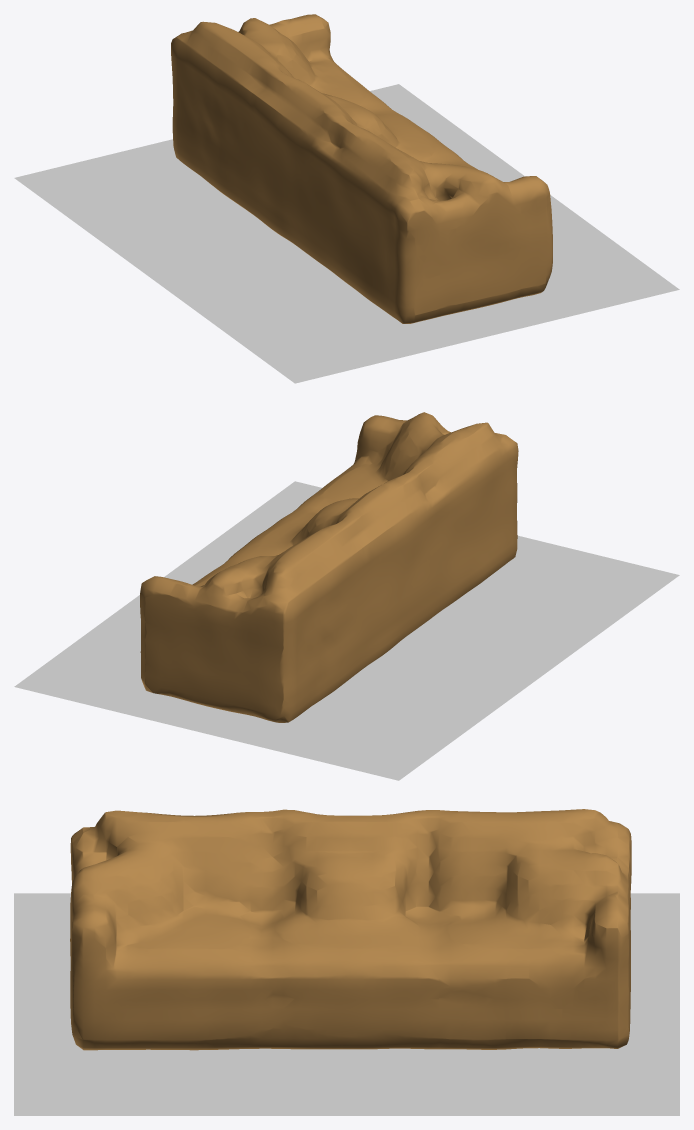
Rendered from sofa.glb.
The picture shows the model from 3 angles, top to bottom: view 1: azimuth 30°, elevation 25°; view 2: azimuth 150°, elevation 25°; view 3: azimuth 270°, elevation 25°; orthographic projection. The views are drawn at different scales.
Parts seen in each view (by area): view 1: LivingRoom-360, world; view 2: LivingRoom-360, world; view 3: LivingRoom-360, world.
Boxes of the visible parts, x1,y1,x2,y2 form: LivingRoom-360: (171, 14, 552, 323); world: (14, 84, 679, 383); LivingRoom-360: (140, 412, 518, 722); world: (14, 481, 679, 780); LivingRoom-360: (70, 809, 631, 1050); world: (14, 893, 679, 1115).
Bounding box in the file's own units: 0.7396 × 0.2681 × 0.9352.
